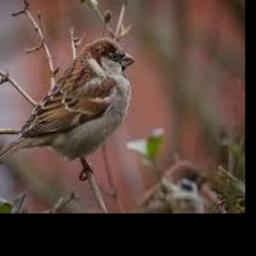Sparrow: (0, 37, 135, 178)
